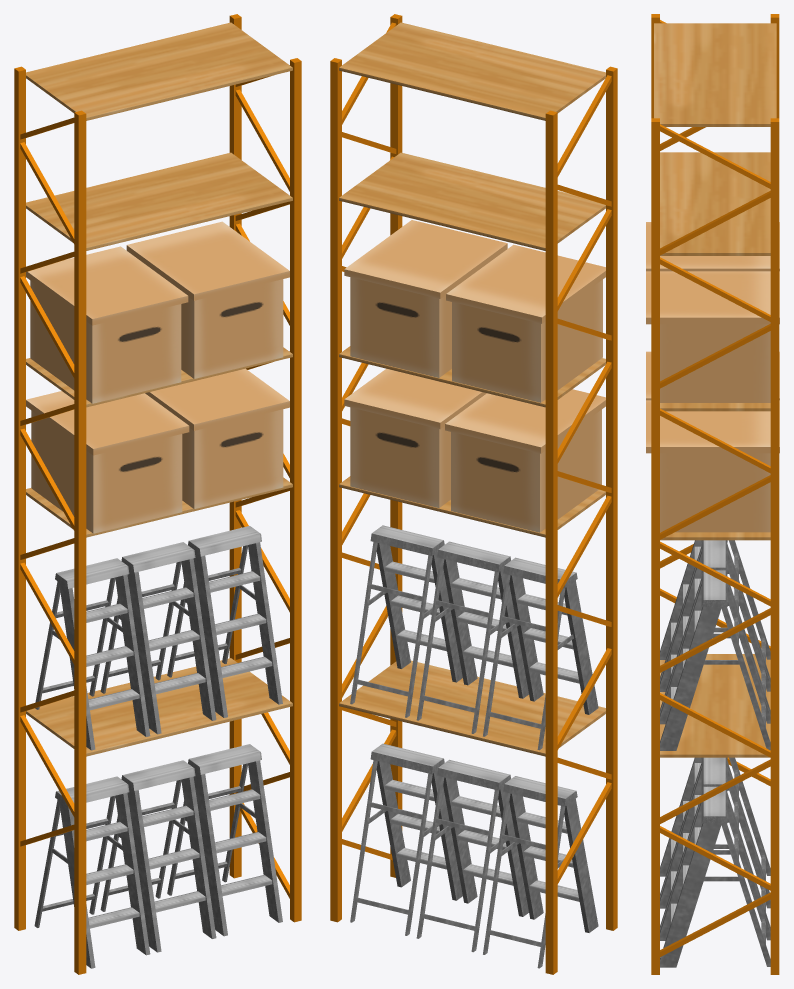
Rendered from Ladder_Rack.fbx.
3 views of the same model, side by side, from view 1: azimuth 30°, elevation 25°; view 2: azimuth 150°, elevation 25°; view 3: azimuth 270°, elevation 25° (orthographic).
Visible parts, largest first — view 1: Ladder_Rack; view 2: Ladder_Rack; view 3: Ladder_Rack.
Boxes of the visible parts, x1,y1,x2,y2 form: Ladder_Rack: (14, 14, 301, 974); Ladder_Rack: (330, 14, 617, 974); Ladder_Rack: (646, 14, 779, 974).
Bounding box in the file's own units: 2 × 7.37 × 1.05.
